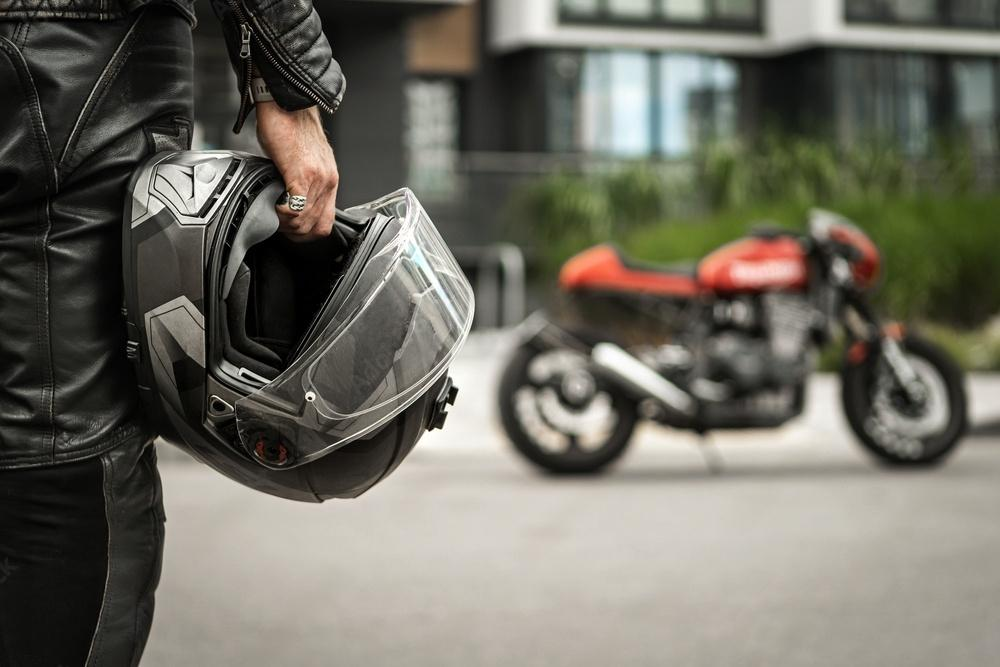helmet: (119, 147, 477, 505)
